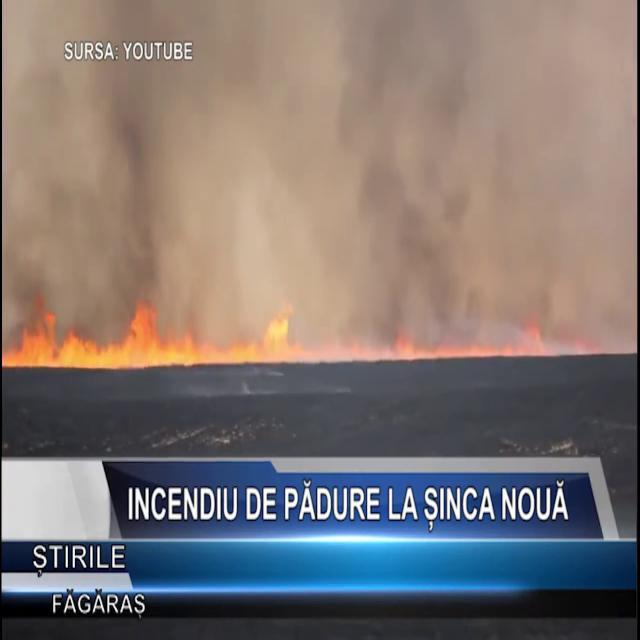Fire: (6, 290, 288, 370)
Smoke: (2, 1, 628, 333)
